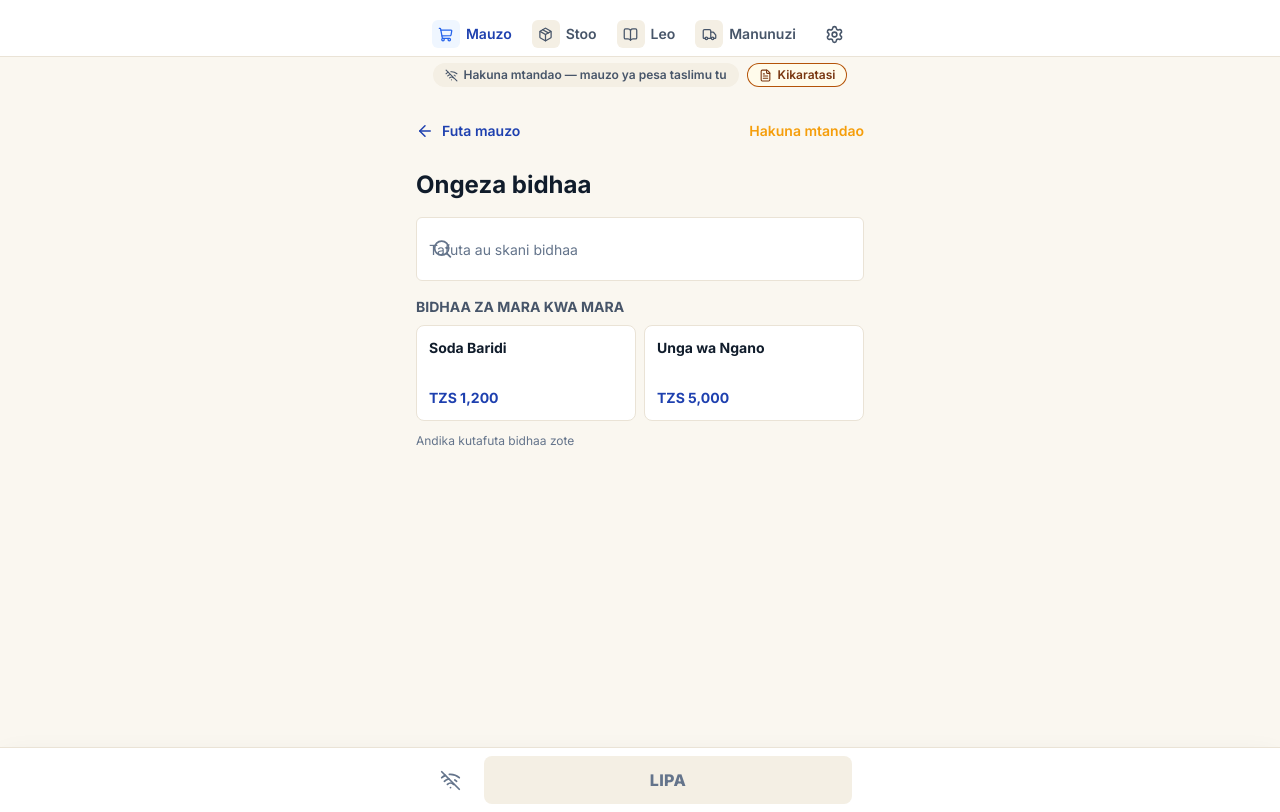
Test case: KIKARATASI-2: the slip restores into the form › restores offline too, with the calm note instead of a warning
Expected: the heading "Ongeza bidhaa" is shown, [416,170,591,199]
Click the button "Manunuzi" at (746, 34), box [687,12,804,56]
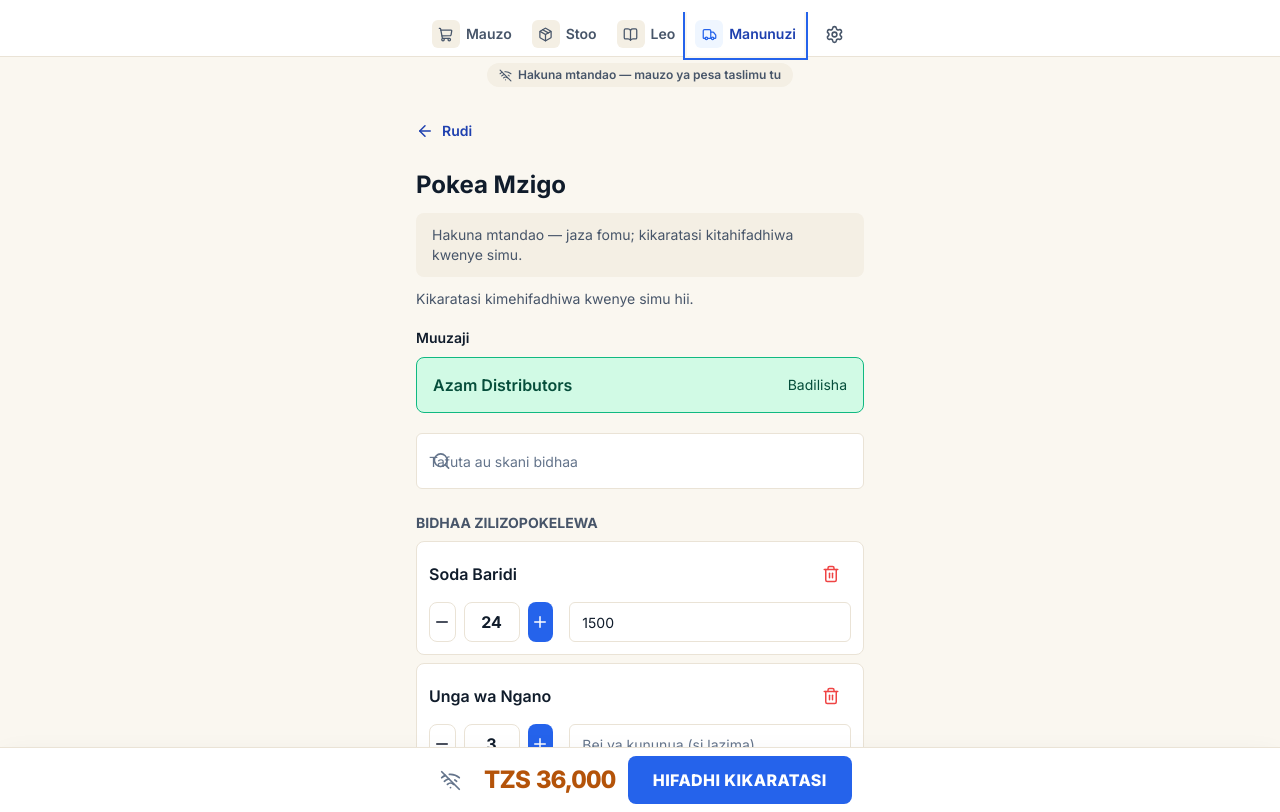
Expected: the heading "Pokea Mzigo" is shown, [416,170,566,199]
Expected: the button "Azam Distributors Badilisha" is shown, [416,357,864,413]
Expected: the text "Hakuna mtandao — jaza fomu; kikaratasi kitahifadhiwa kwenye simu." is shown, [416,213,864,277]
